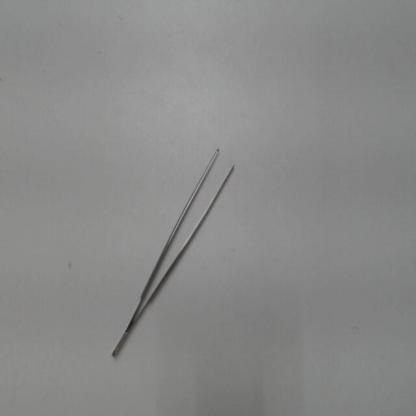Gillies Toothed Dissector: (107, 134, 251, 368)
